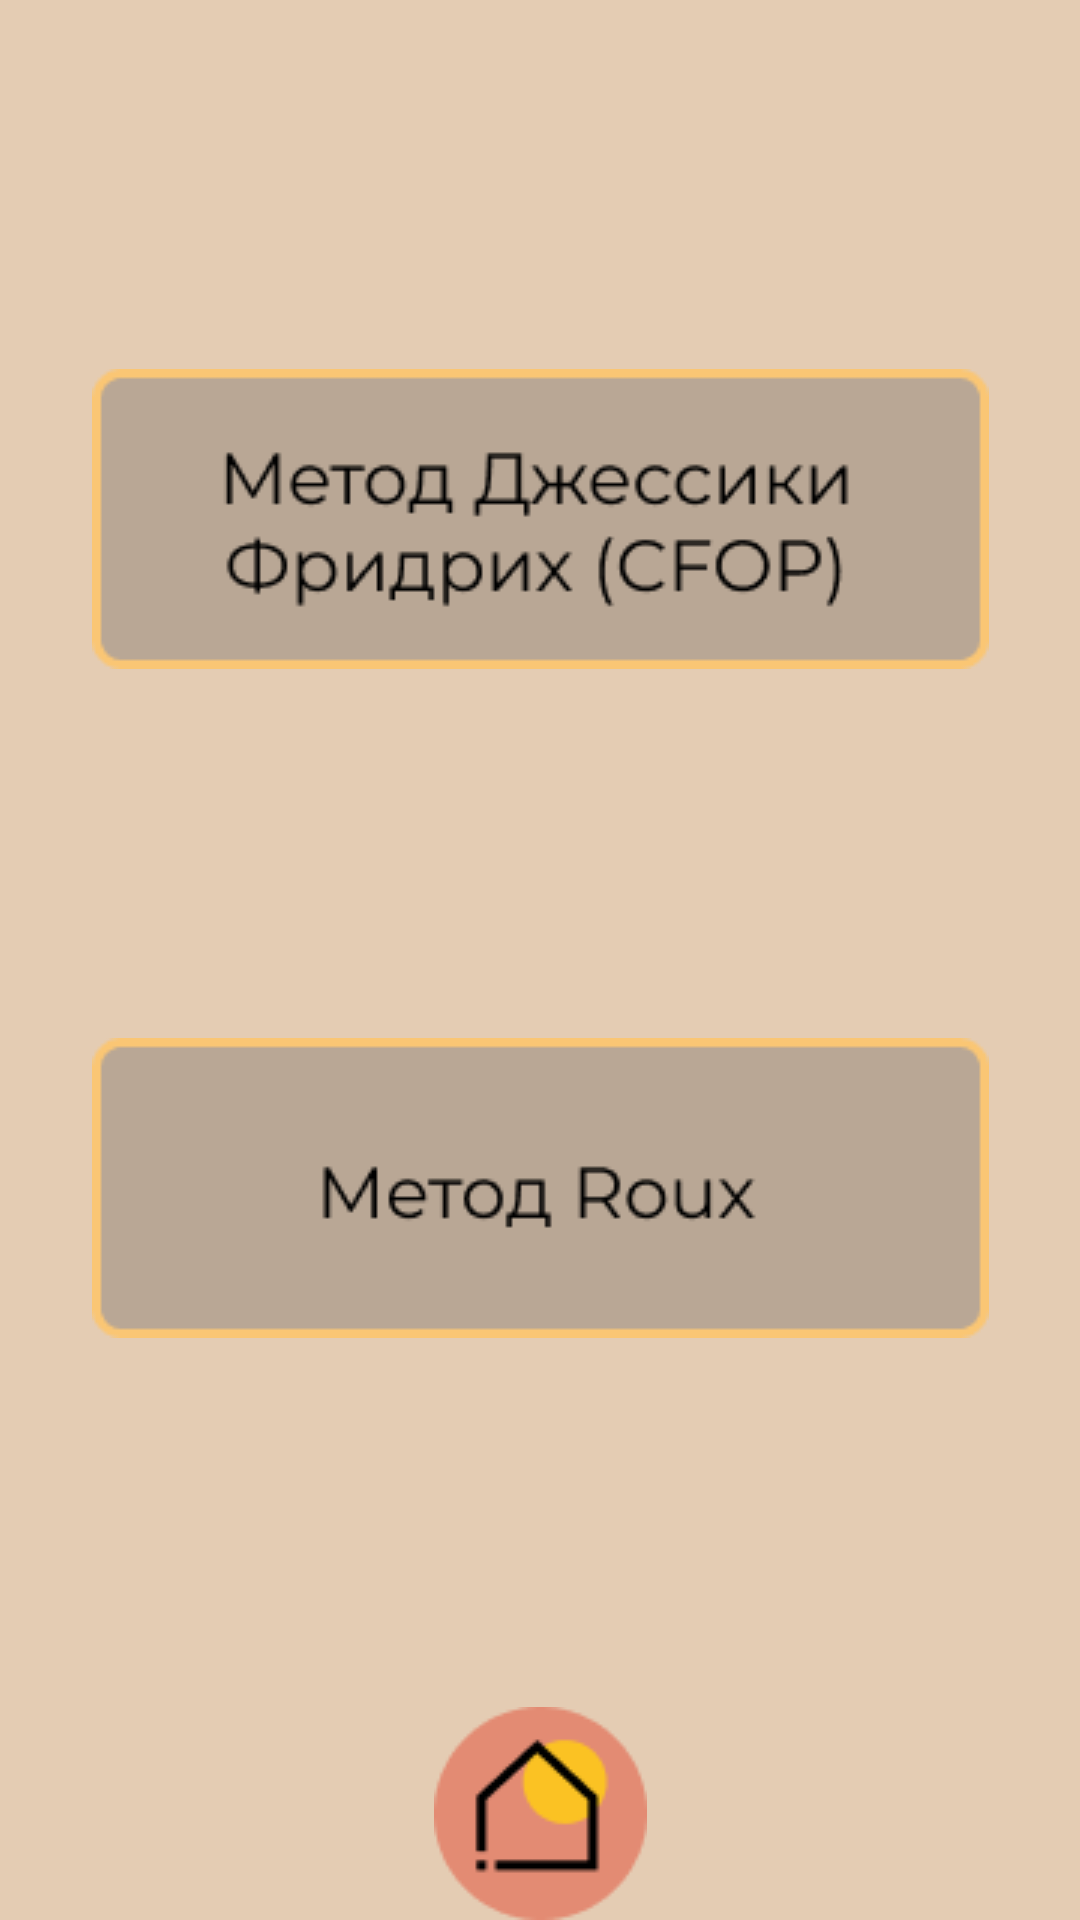

Where icons sit on this 1080px×1920px app screen, as (x1, y1, x2, y2):
home: (434, 1707, 647, 1920)
